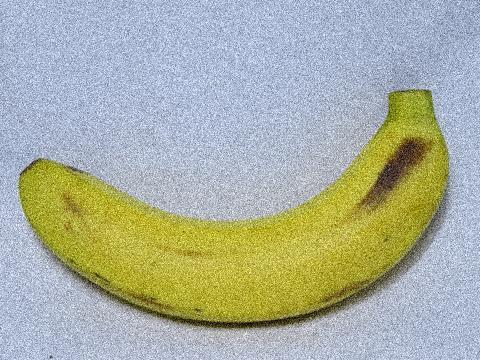freshripe: (8, 76, 458, 343)
